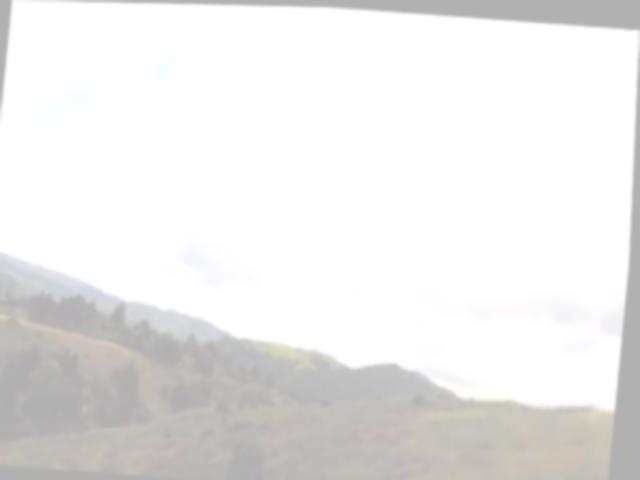iha: (415, 313, 434, 332)
